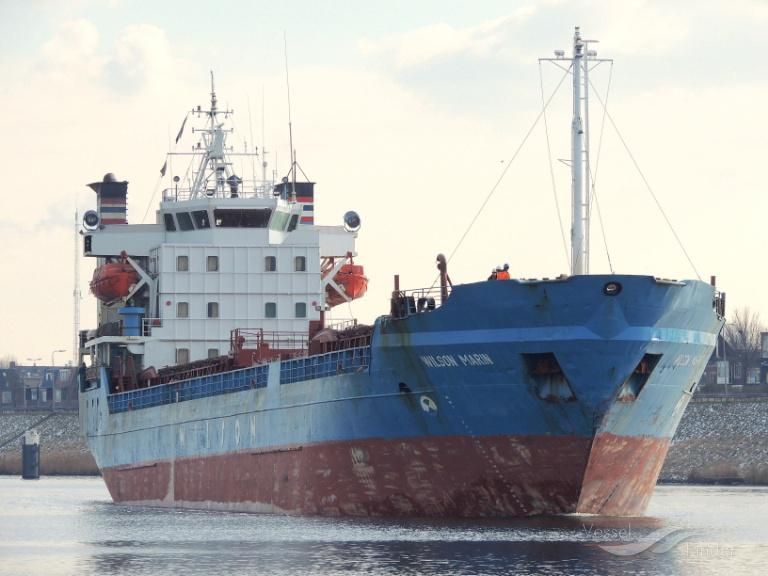OCR: (414, 347, 498, 376)
